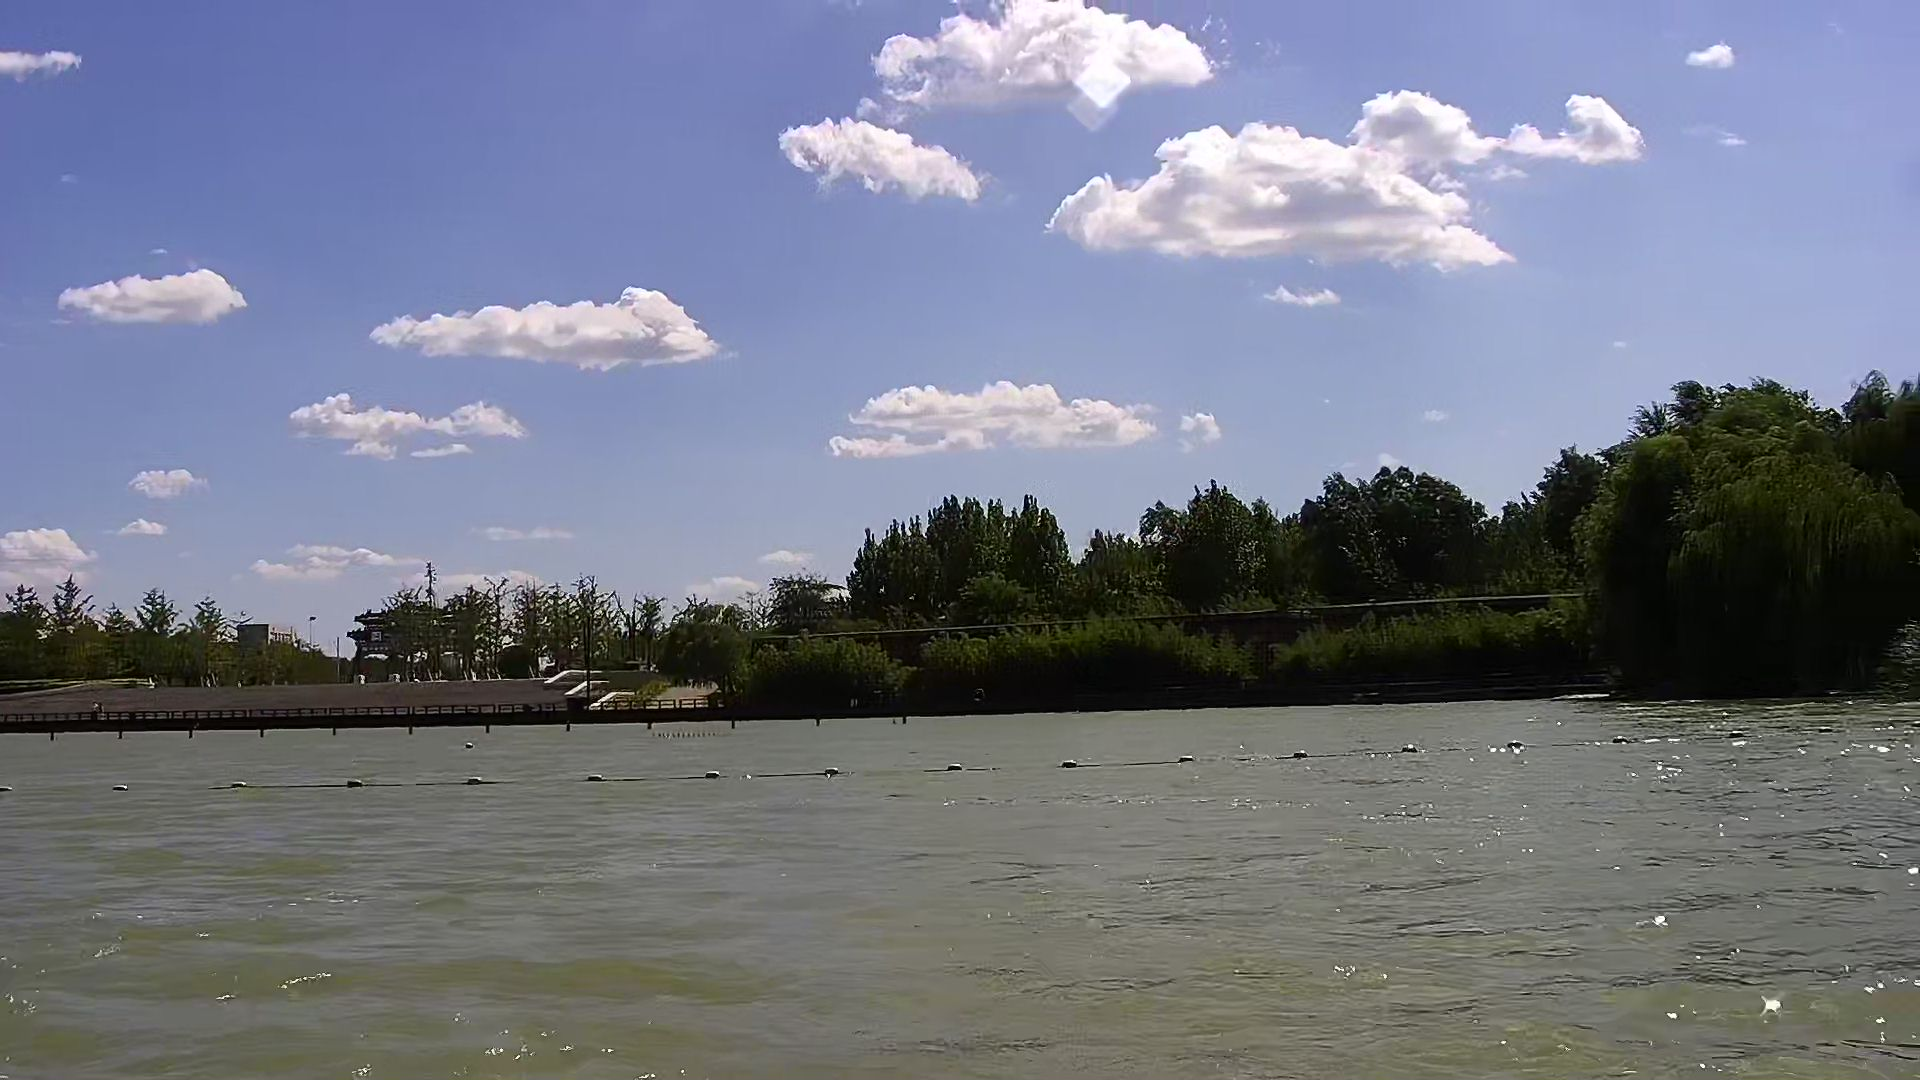ball: (458, 771, 487, 793), (1058, 756, 1083, 775), (702, 764, 723, 785), (819, 764, 844, 781), (942, 760, 967, 777), (1729, 727, 1750, 745), (228, 777, 251, 794), (1288, 748, 1311, 765), (1506, 738, 1530, 754), (585, 770, 605, 789), (1402, 741, 1422, 760), (1178, 749, 1196, 767), (344, 778, 367, 793), (109, 777, 129, 793), (1611, 732, 1630, 748)
harbor: (3, 680, 733, 736)
